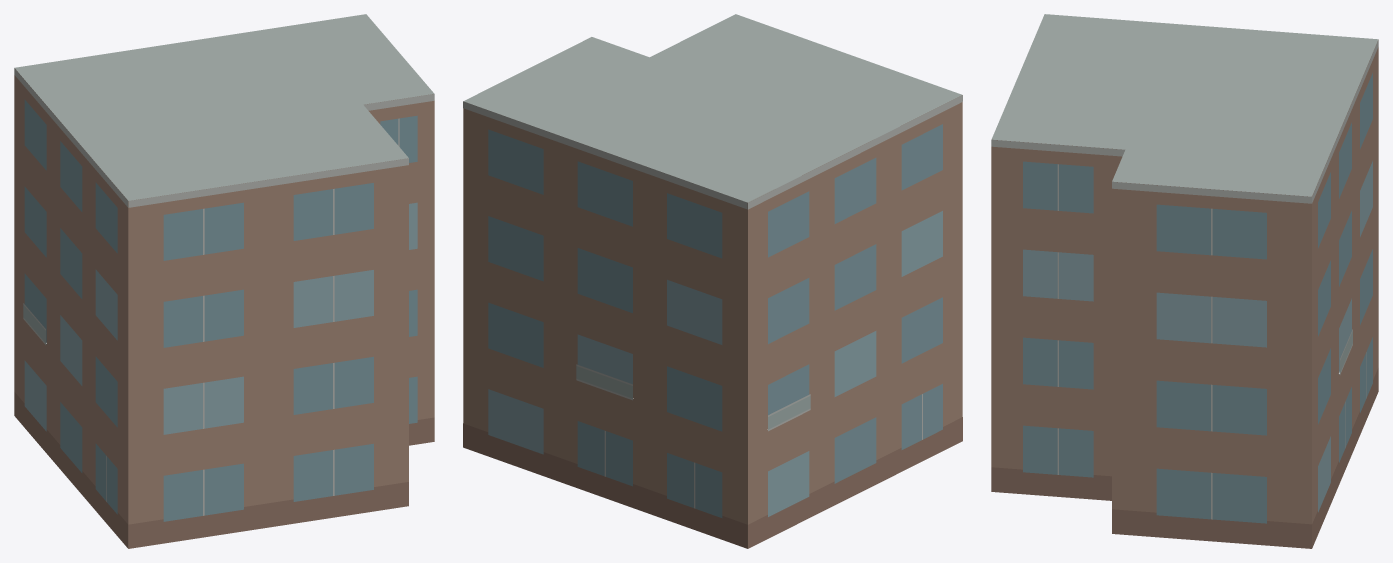
Rendered from residential-e8ea1359-406d-4e0e-b0e8-e5540b593baf.glb.
3 views of the same model, side by side, from view 1: azimuth 30°, elevation 25°; view 2: azimuth 150°, elevation 25°; view 3: azimuth 270°, elevation 25° (orthographic).
Visible parts, largest first — view 1: residential-e8ea1359-406d-4e0e-b0e8-e5540b593baf.tmp; view 2: residential-e8ea1359-406d-4e0e-b0e8-e5540b593baf.tmp; view 3: residential-e8ea1359-406d-4e0e-b0e8-e5540b593baf.tmp.
Part boxes in pixels (x1=…): residential-e8ea1359-406d-4e0e-b0e8-e5540b593baf.tmp: x1=14, y1=14, x2=434, y2=548; residential-e8ea1359-406d-4e0e-b0e8-e5540b593baf.tmp: x1=463, y1=14, x2=962, y2=548; residential-e8ea1359-406d-4e0e-b0e8-e5540b593baf.tmp: x1=991, y1=14, x2=1378, y2=548.
Bounding box in the file's own units: 13.59 × 12.2 × 12.17.
